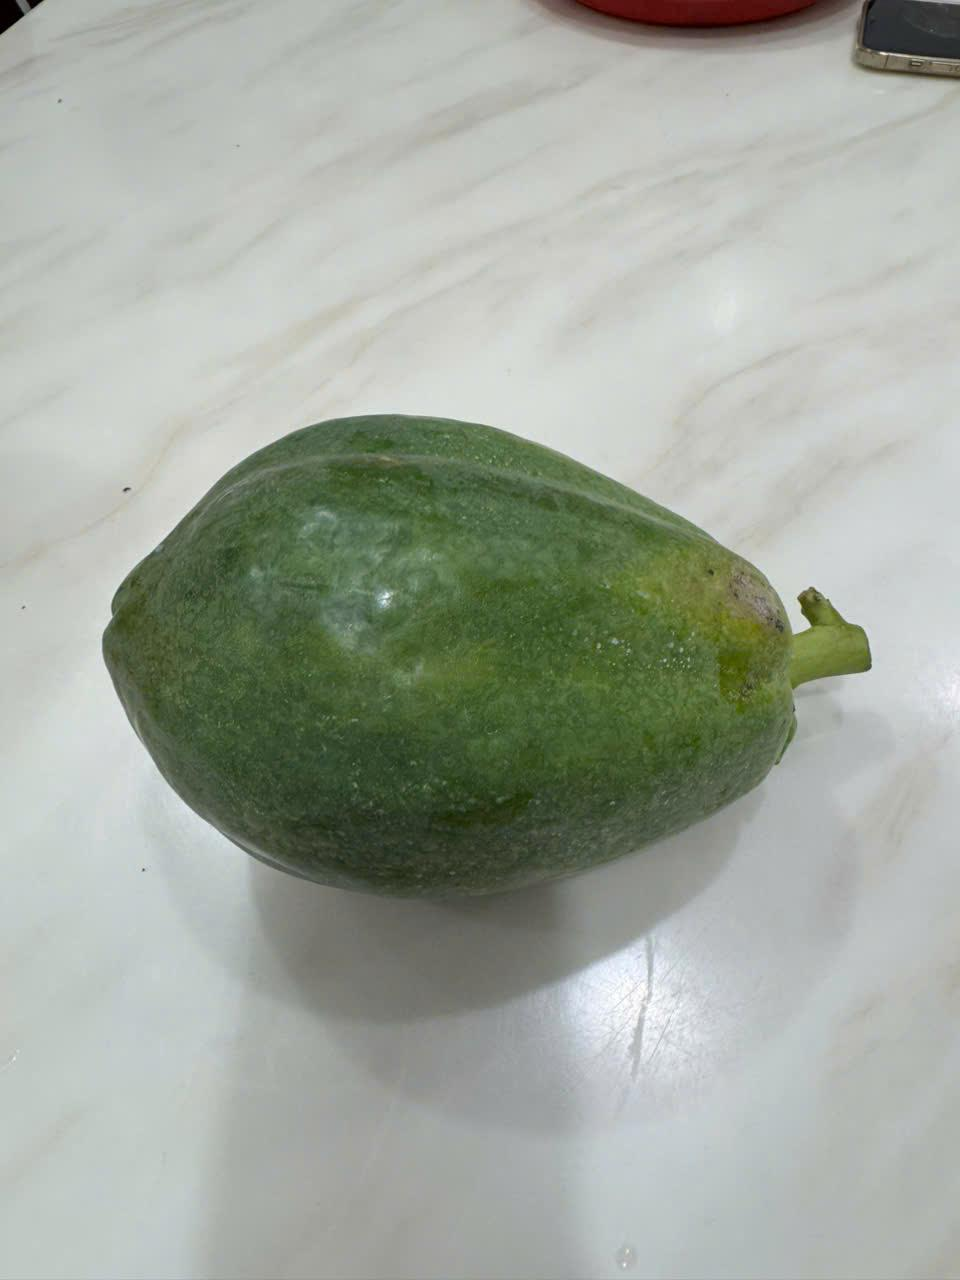papaya: (56, 360, 897, 942)
